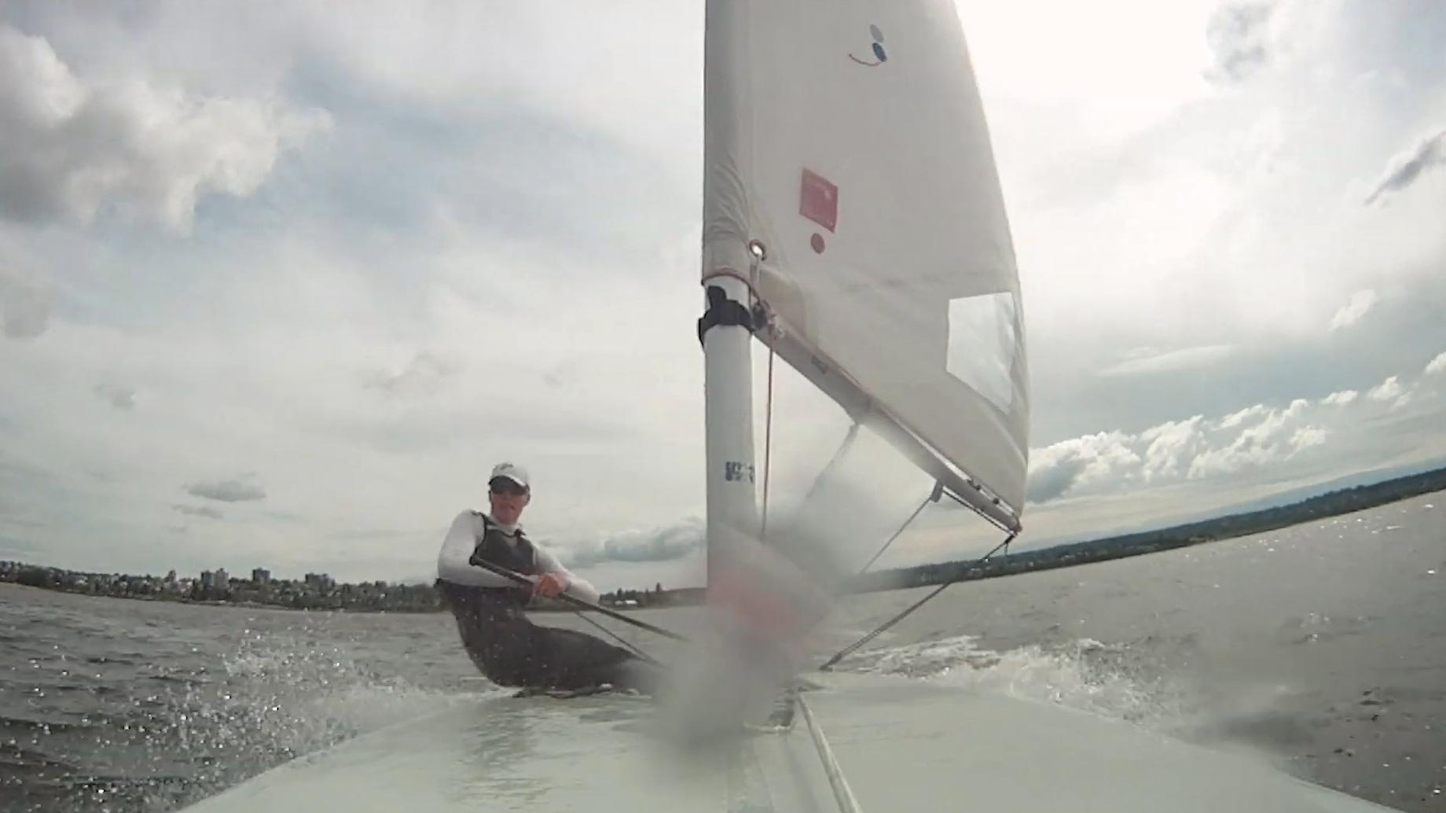boat: (172, 0, 1401, 813)
land: (854, 473, 1446, 590), (0, 562, 442, 609), (596, 590, 699, 609)
person: (434, 465, 661, 696)
sea: (825, 491, 1446, 813), (0, 585, 505, 813), (530, 609, 705, 659)
sky: (0, 0, 707, 597), (752, 0, 1446, 583)
